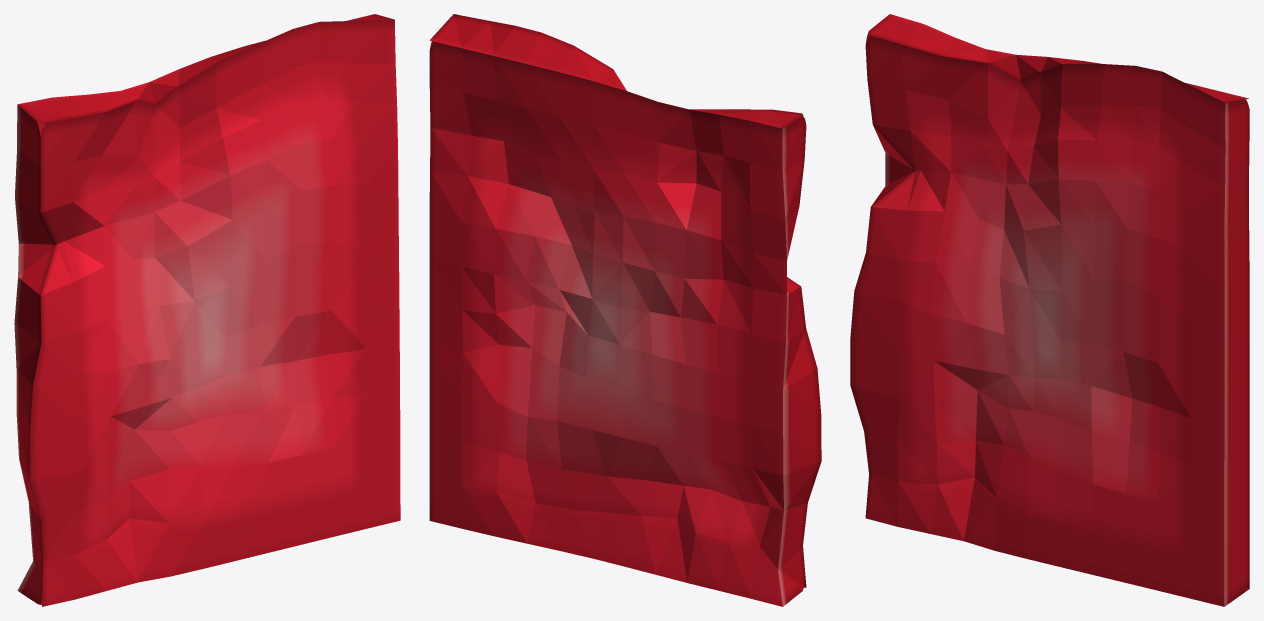
File: red_moongate_0776x06.obj
3 views of the same model, side by side, from view 1: azimuth 30°, elevation 25°; view 2: azimuth 150°, elevation 25°; view 3: azimuth 330°, elevation 25° (orthographic).
Parts seen in each view (by area): view 1: red_moongate_0776x06; view 2: red_moongate_0776x06; view 3: red_moongate_0776x06.
Part boxes in pixels (<box>): red_moongate_0776x06: <box>14,14,400,606</box>; red_moongate_0776x06: <box>429,14,821,606</box>; red_moongate_0776x06: <box>850,14,1249,606</box>.
Bounding box in the file's own units: 4.27 × 5.6 × 0.5416.
